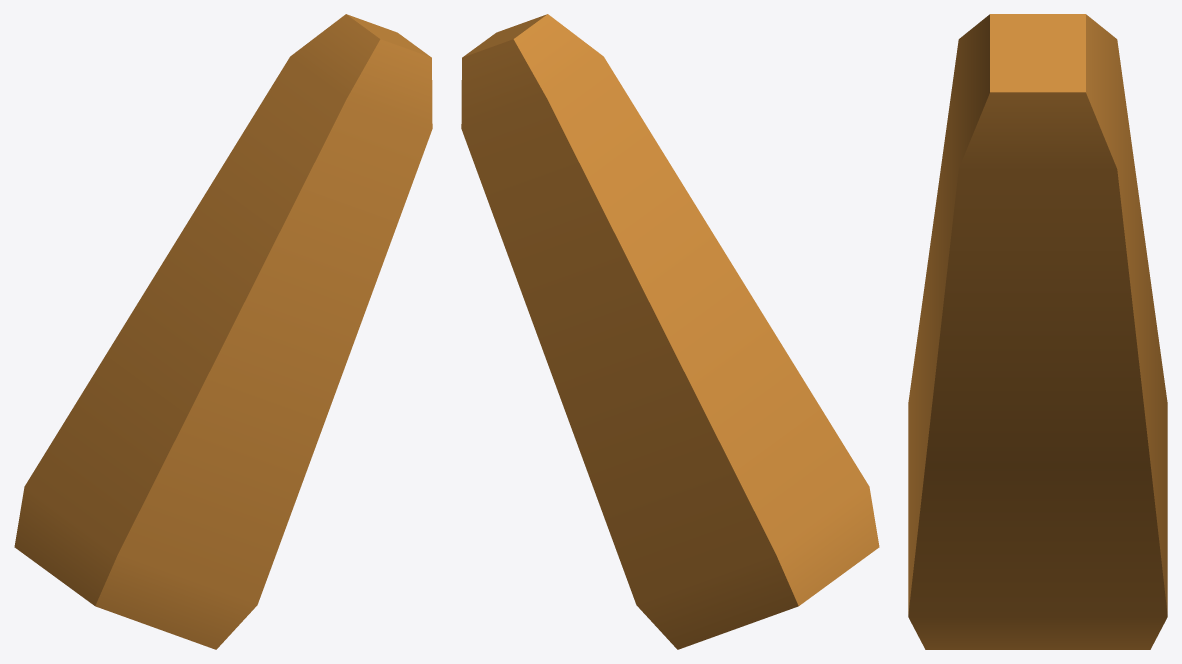
Rendered from Arm_R.obj.
3 renders of one model, left to right at view 1: azimuth 30°, elevation 25°; view 2: azimuth 150°, elevation 25°; view 3: azimuth 270°, elevation 25°, orthographic. The views are drawn at different scales.
Parts seen in each view (by area): view 1: ArmR; view 2: ArmR; view 3: ArmR.
Part boxes in pixels (x1,y1,x2,y2): ArmR: (14,14,432,649); ArmR: (461,14,879,649); ArmR: (908,14,1167,649).
Bounding box in the file's own units: 0.2737 × 0.3983 × 0.1228.
